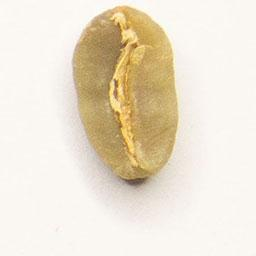longberry: (68, 2, 184, 185)
